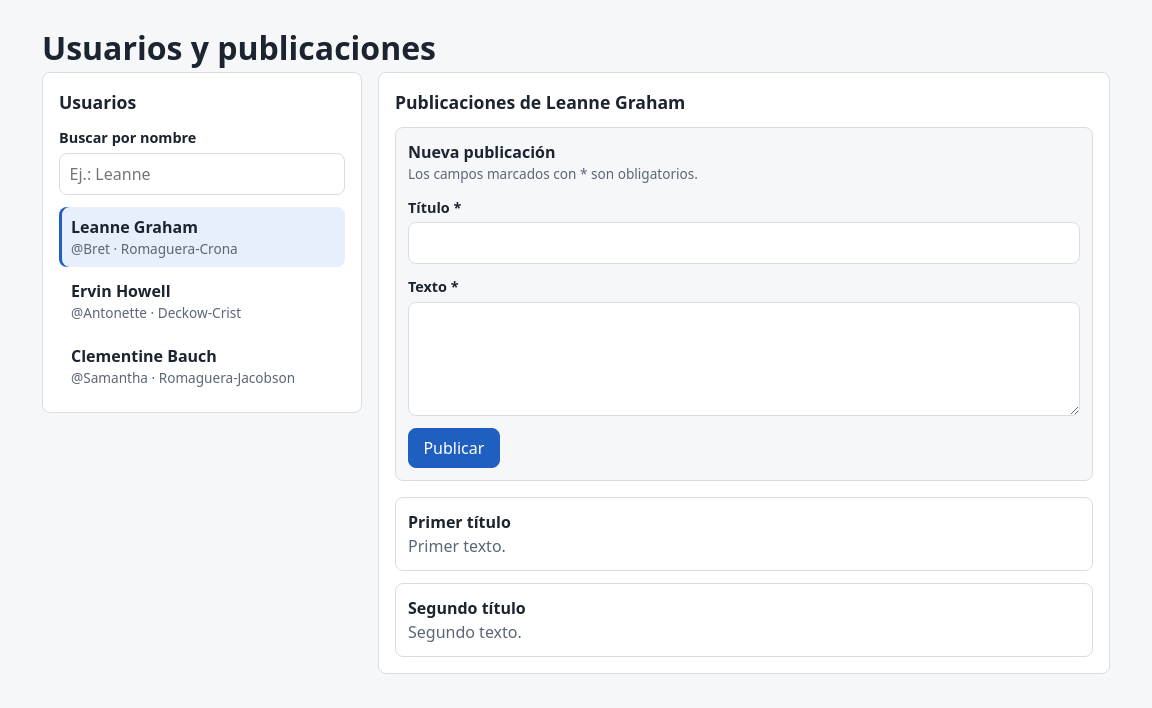
Test: Formulario de nueva publicación › añade la publicación creada al principio de la lista y limpia el formulario
This screenshot has width=1152, height=708.
Type "Mi publicación" into the field labelled "Título" at [744, 243], box [408,222,1080,264]
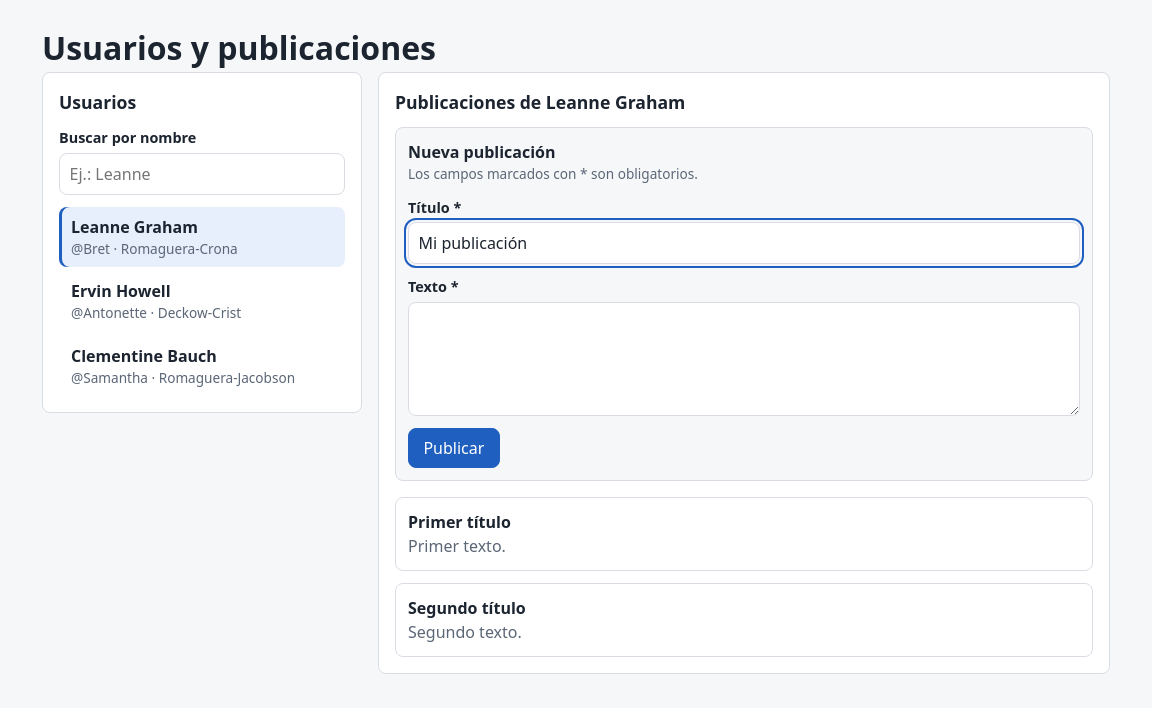
Type "Contenido de prueba" into the text box labelled "Texto" at [744, 359], box [408,302,1080,416]
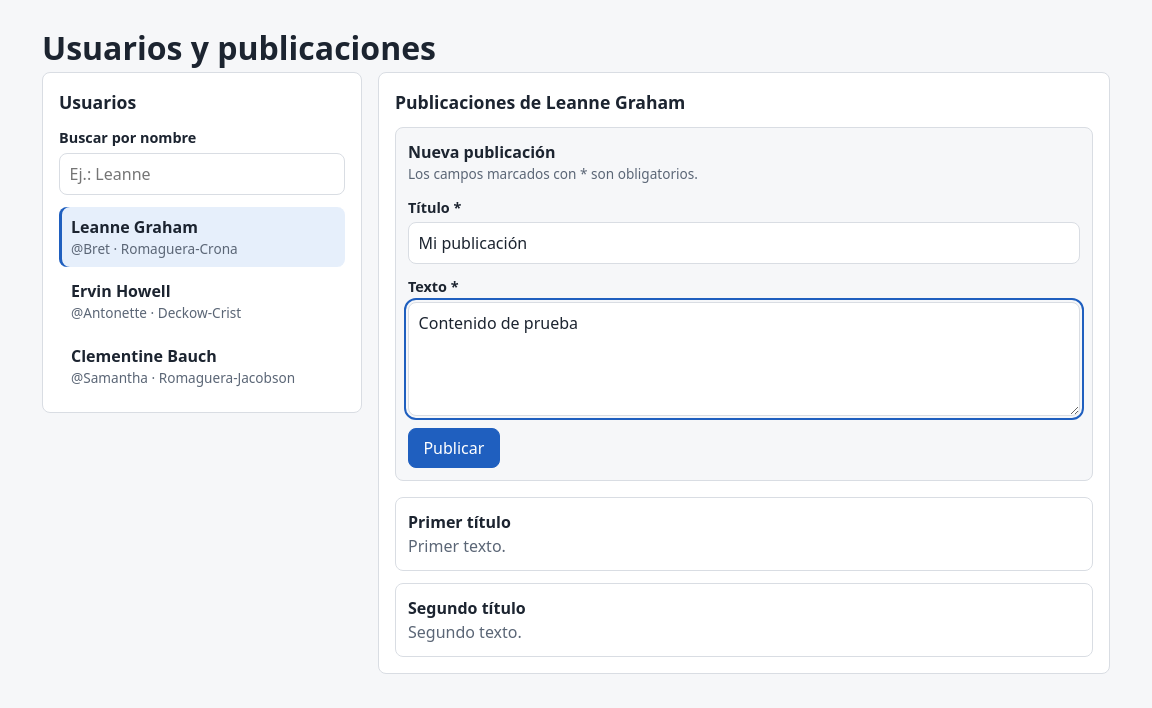
Click the button "Publicar" at [454, 448], box [408,428,500,468]
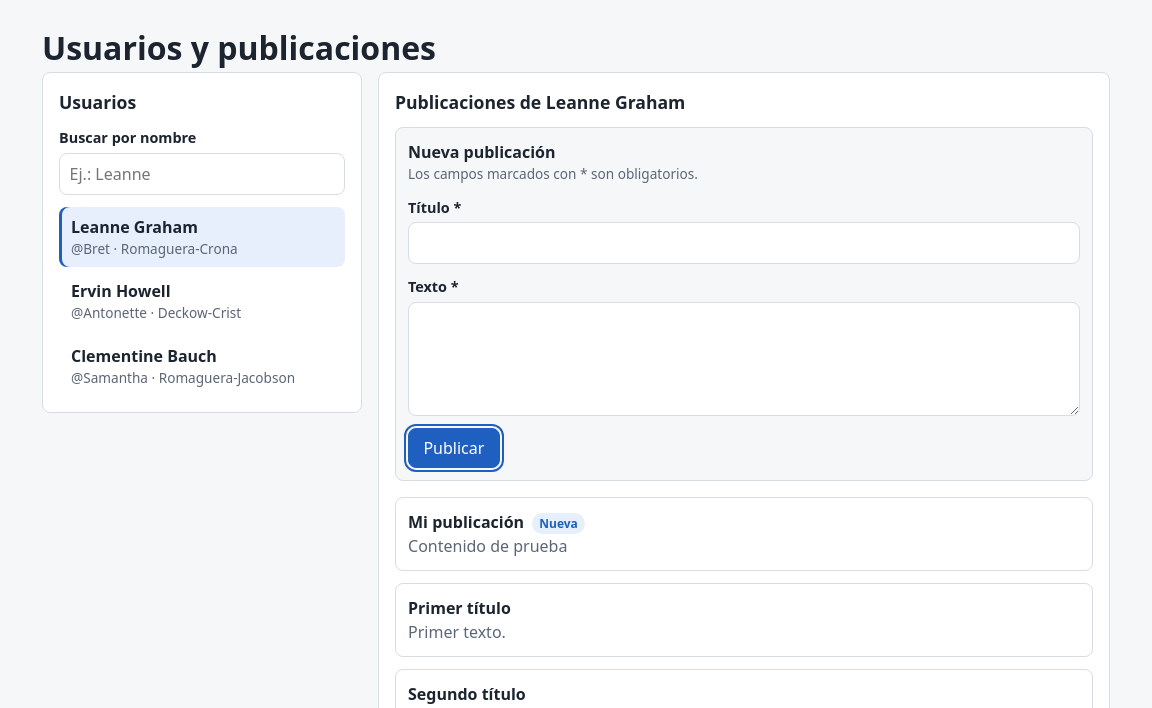
Result: the list item that starts with "Mi publicación" is shown at [408,511,524,533]
Result: the list item that starts with "Mi publicación" shows "Contenido de prueba" at [408,535,567,557]
Result: the field labelled "Título" is empty at [408,222,1080,264]
